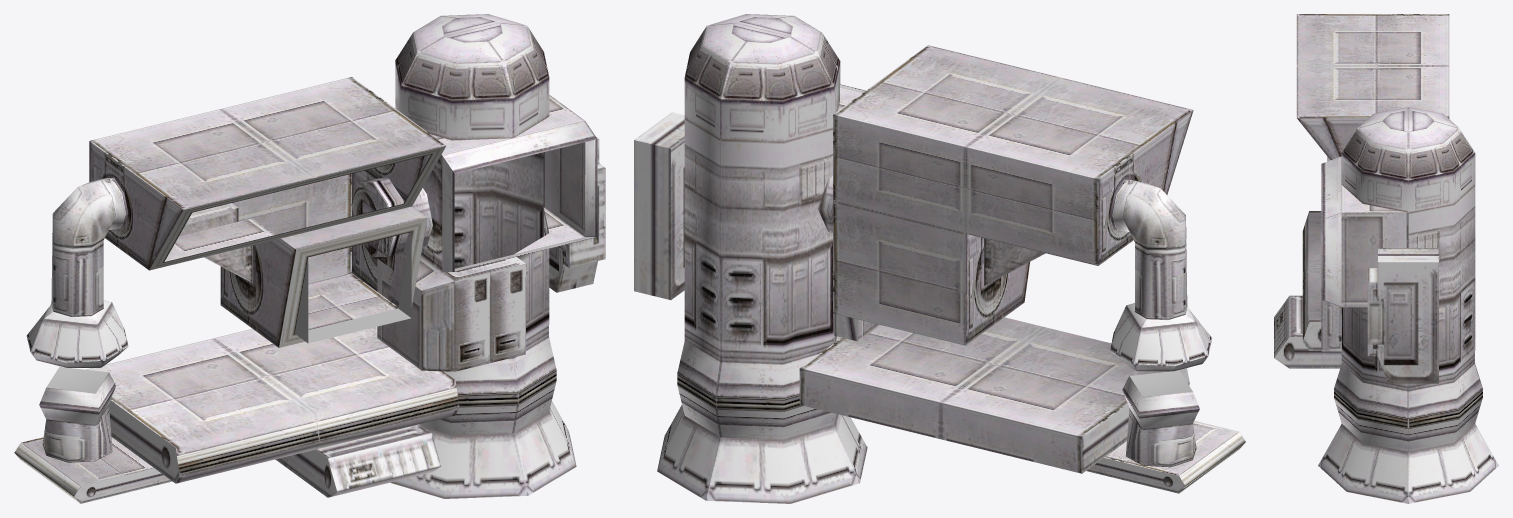
The model's file is eqp_food_mfg_station_m_s1_l1.fbx.
3 views of the same model, side by side, from view 1: azimuth 30°, elevation 25°; view 2: azimuth 150°, elevation 25°; view 3: azimuth 270°, elevation 25° (orthographic). The views are drawn at different scales.
Parts seen in each view (by area): view 1: mesh_node; view 2: mesh_node; view 3: mesh_node.
Boxes of the visible parts, x1,y1,x2,y2 form: mesh_node: (14, 14, 605, 503); mesh_node: (634, 14, 1245, 503); mesh_node: (1274, 14, 1498, 503).
Bounding box in the file's own units: 3.85 × 2.84 × 1.68.
